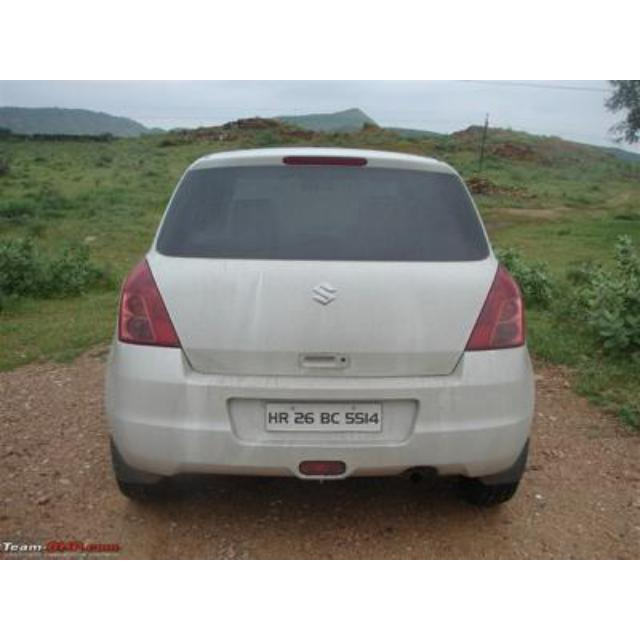car: (102, 145, 534, 499)
plate: (267, 402, 381, 432)
